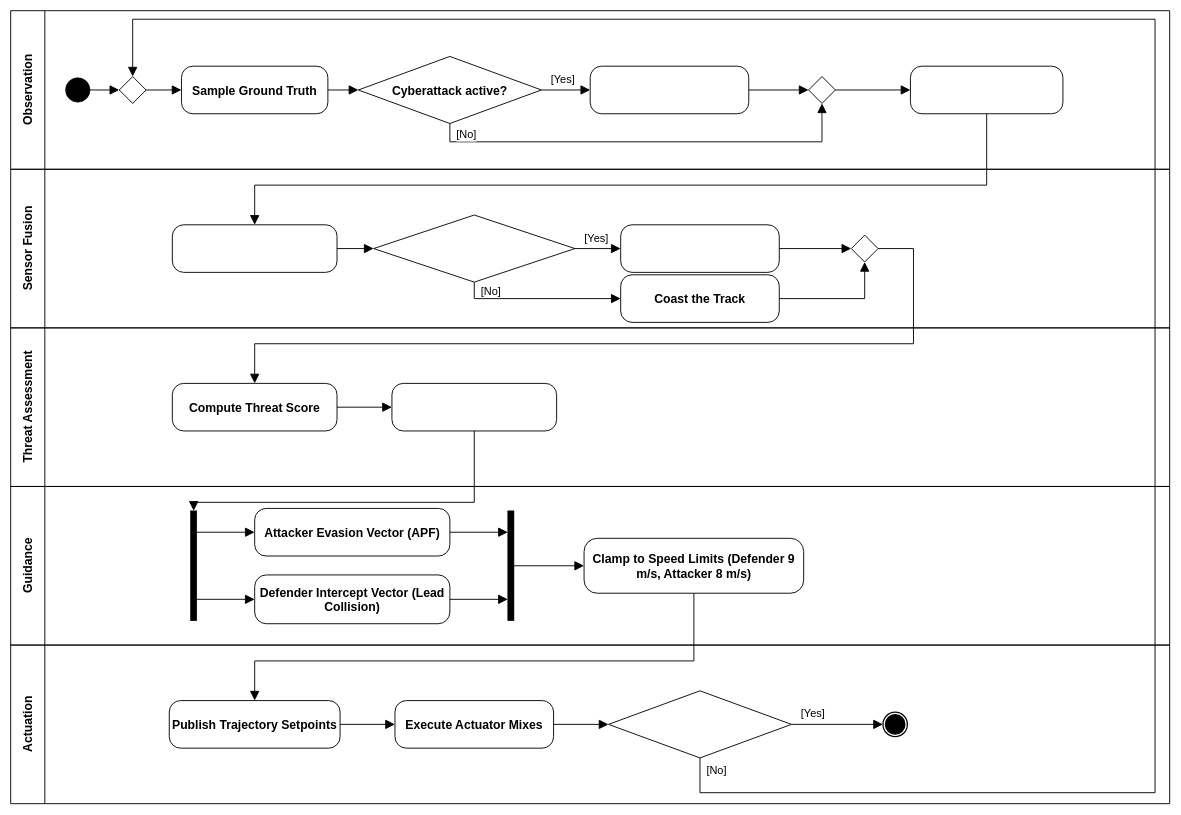
Image size: 1181x815. Some labels were removed from this diagram. Each missing label, with the centre of its shape:
"Add Gaussian Noise" belongs at [986,89].
"Group Detections by Target" belongs at [254,248].
"Inject Attack Degradation" belongs at [669,89].
"Inverse Variance Fusion" belongs at [699,248].
"Mission decided?" belongs at [700,724].
"Sort Threat Priorities" belongs at [474,407].
"Target detected this tick?" belongs at [474,248].
